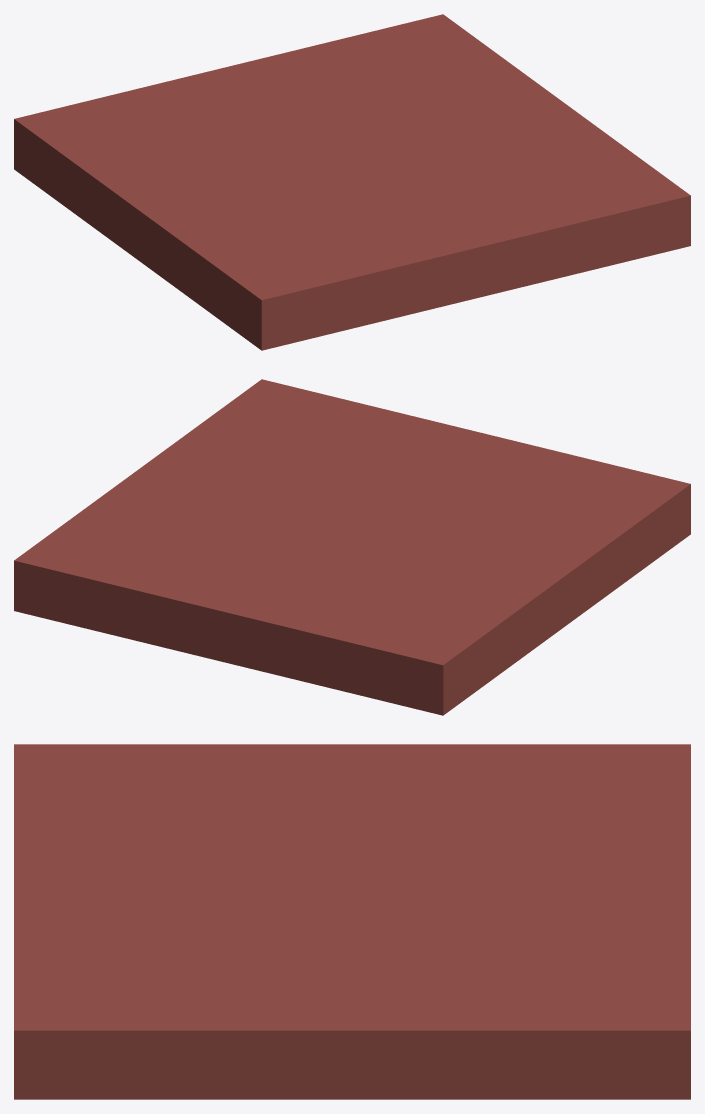
The model's file is Carne.glb.
The picture shows the model from 3 angles, top to bottom: view 1: azimuth 30°, elevation 25°; view 2: azimuth 150°, elevation 25°; view 3: azimuth 270°, elevation 25°; orthographic projection. The views are drawn at different scales.
Parts seen in each view (by area): view 1: Cube; view 2: Cube; view 3: Cube.
Boxes of the visible parts, x1,y1,x2,y2 form: Cube: [14, 14, 690, 350]; Cube: [14, 379, 690, 715]; Cube: [14, 744, 690, 1099].
Size of the model in its own units: 7.99 by 0.8969 by 7.99.
